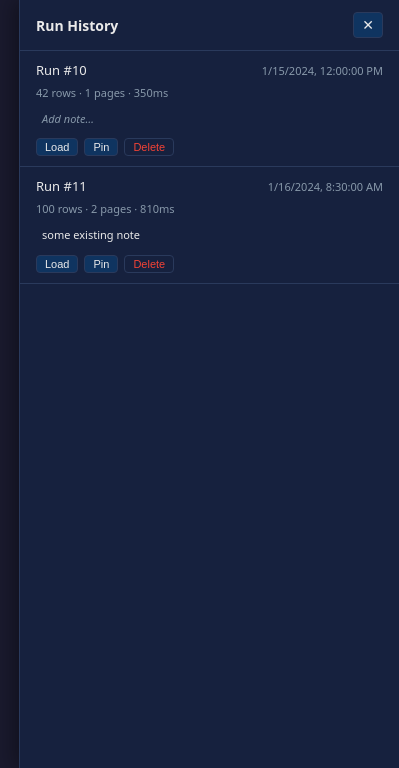
Test: HistoryDrawer › clicking the note area renders a textarea
This screenshot has width=399, height=768.
Check: the text "Run #10" is shown, box [36, 61, 87, 80]
Note: Run #10 has no notes, shows 'Add note…'
What coordinates should you click on to do the following:
click the text "Add note…"
I would click on:
 (68, 118)
Its box is [42, 111, 94, 126].
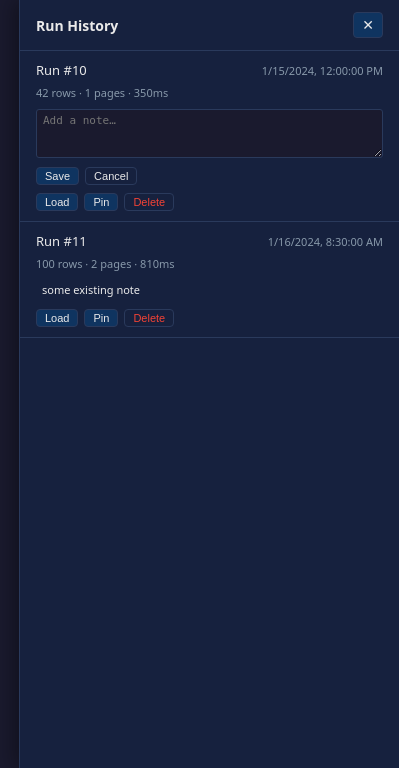
Check: the text box is shown, box [36, 109, 383, 158]
